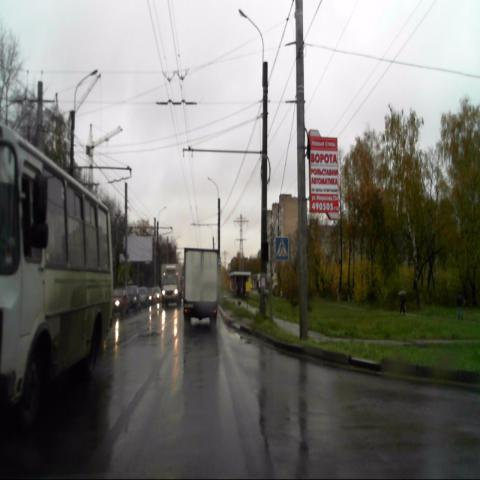5_19_1: (274, 236, 288, 261)
